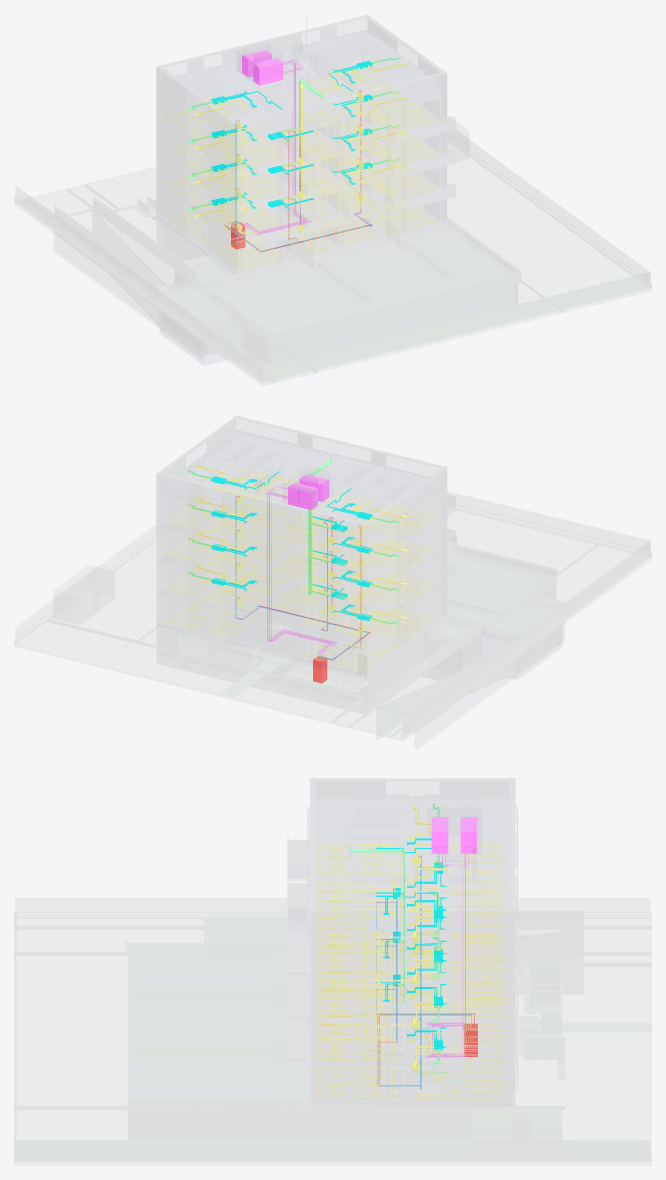
File: impianti_clima.glb
3 views of the same model, one above another, from view 1: azimuth 30°, elevation 25°; view 2: azimuth 150°, elevation 25°; view 3: azimuth 270°, elevation 25° (orthographic). The views are drawn at different scales.
Visible parts, largest first — view 1: edificio/02_Involucro, edificio/00_Lotto, edificio/08_Copertura e impianti, termico/primario/copertura/comuni/TEN-014; view 2: edificio/02_Involucro, edificio/00_Lotto, edificio/08_Copertura e impianti, termico/primario/copertura/comuni/TEN-013; view 3: edificio/00_Lotto, edificio/02_Involucro, edificio/08_Copertura e impianti, termico/primario/copertura/comuni/TEN-013, termico/primario/copertura/comuni/TEN-014.
Part boxes in pixels (left/top/right/bottom): edificio/02_Involucro: left=157, top=15, right=455, bottom=271; edificio/00_Lotto: left=15, top=130, right=651, bottom=382; edificio/08_Copertura e impianti: left=153, top=31, right=426, bottom=219; termico/primario/copertura/comuni/TEN-014: left=253, top=58, right=283, bottom=85; edificio/02_Involucro: left=156, top=416, right=455, bottom=669; edificio/00_Lotto: left=15, top=505, right=651, bottom=737; edificio/08_Copertura e impianti: left=177, top=432, right=425, bottom=678; termico/primario/copertura/comuni/TEN-013: left=288, top=482, right=317, bottom=509; edificio/00_Lotto: left=14, top=911, right=651, bottom=1161; edificio/02_Involucro: left=288, top=778, right=517, bottom=1098; edificio/08_Copertura e impianti: left=317, top=795, right=519, bottom=974; termico/primario/copertura/comuni/TEN-013: left=460, top=817, right=477, bottom=853; termico/primario/copertura/comuni/TEN-014: left=431, top=817, right=448, bottom=853.
Size of the model in its own units: 38 by 21.45 by 42.
